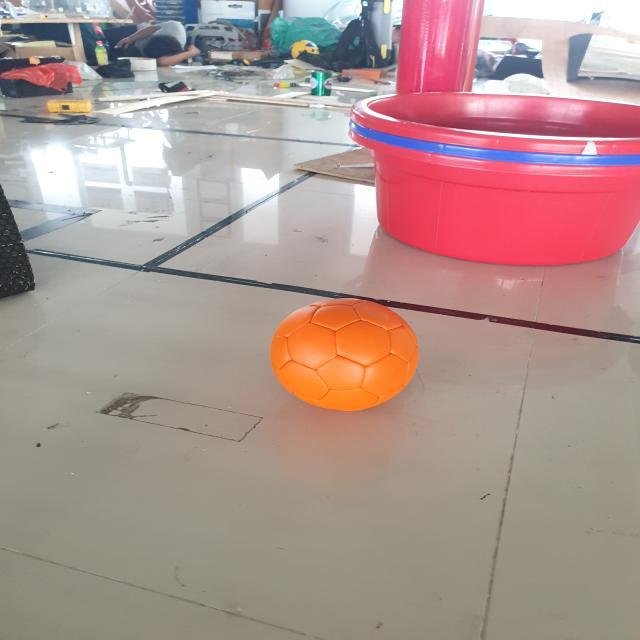bola: (252, 289, 440, 424)
